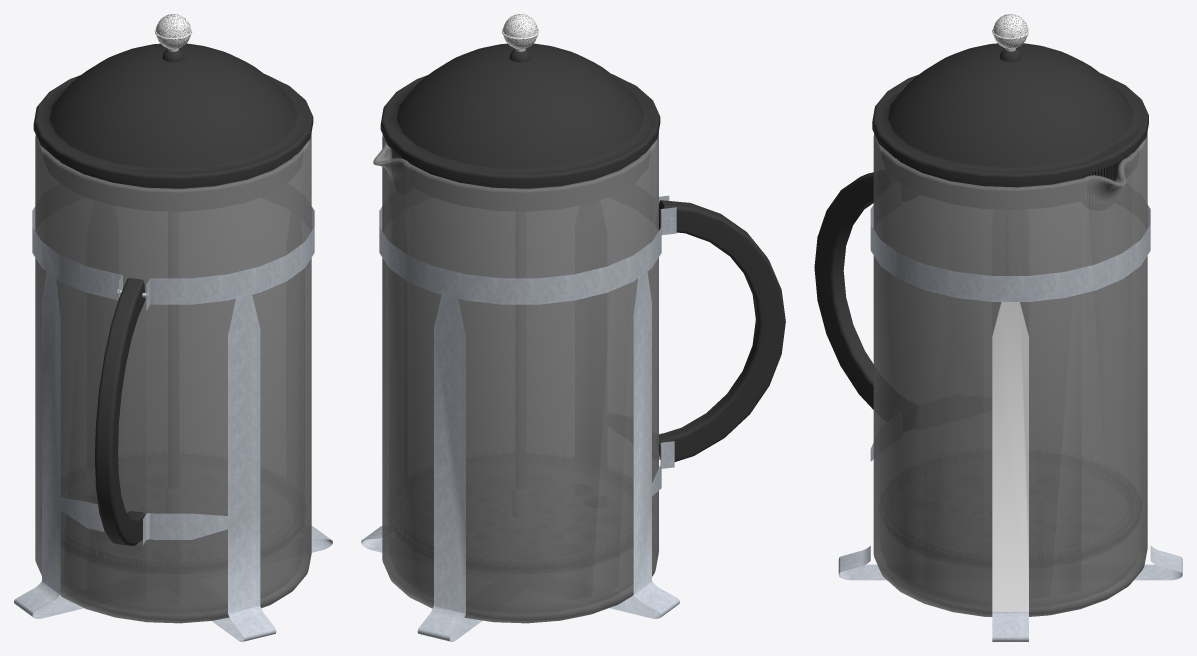
Rendered from french_press.dae.
3 renders of one model, left to right at view 1: azimuth 30°, elevation 25°; view 2: azimuth 150°, elevation 25°; view 3: azimuth 270°, elevation 25°, orthographic.
Visible parts, largest first — view 1: group_2, group_3, Outside_Top (×2), Carriage, group_1, Post; view 2: group_2, group_3, Outside_Top (×2), Carriage, group_1, Post; view 3: group_2, group_3, Outside_Top (×2), Carriage (×2), group_1, Post.
Part boxes in pixels (box(x1,y1,x2,y2)): group_2: box(35, 133, 311, 623); group_3: box(42, 146, 304, 614); Outside_Top (×2): box(33, 43, 313, 188); Carriage: box(14, 206, 332, 641); group_1: box(94, 278, 145, 545); Post: box(156, 14, 190, 37); group_2: box(373, 132, 658, 623); group_3: box(390, 146, 651, 613); Outside_Top (×2): box(380, 43, 660, 188); Carriage: box(361, 195, 679, 641); group_1: box(659, 200, 785, 461); Post: box(503, 14, 537, 37); group_2: box(873, 132, 1147, 616); group_3: box(881, 145, 1140, 607); Outside_Top (×2): box(872, 43, 1148, 187); Carriage (×2): box(838, 205, 1182, 641); group_1: box(814, 172, 873, 409); Post: box(993, 14, 1027, 37).
Bounding box in the file's own units: 7.47 × 7.47 × 12.46.
7 materials, 4 textured.
